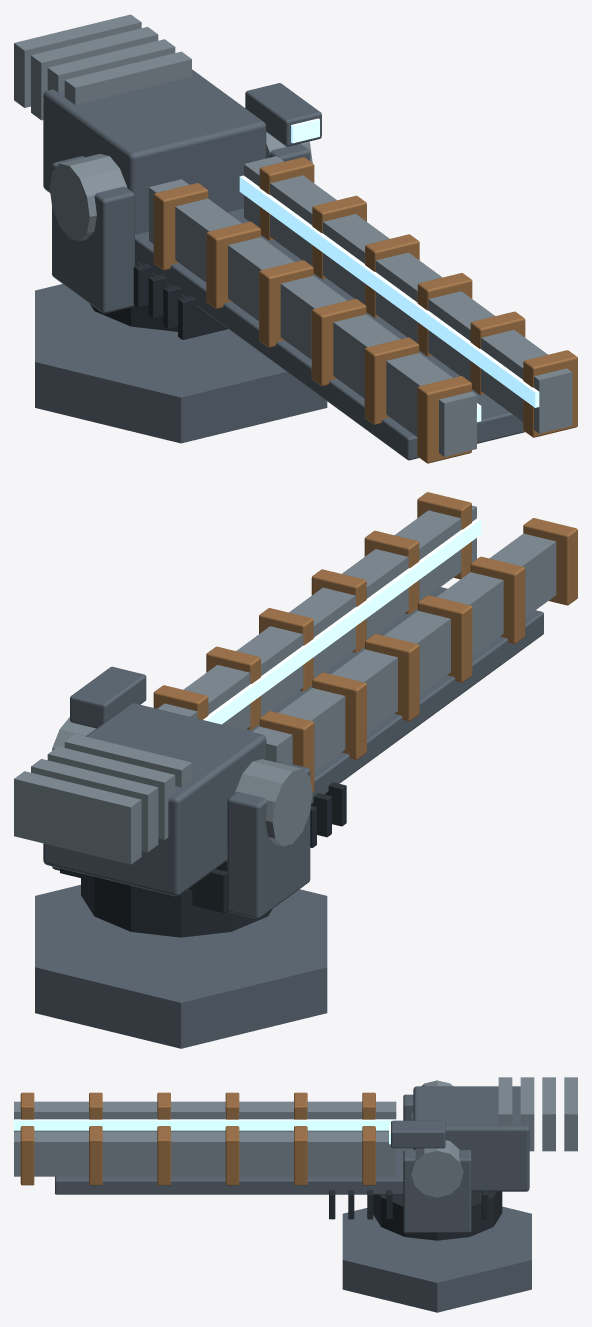
The model's file is railgun_t3_d0.glb.
3 renders of one model, top to bottom at view 1: azimuth 30°, elevation 25°; view 2: azimuth 150°, elevation 25°; view 3: azimuth 270°, elevation 25°, orthographic. The views are drawn at different scales.
Visible parts, largest first — view 1: RECOIL_ARMOR_GEOMETRY, BASE_ARMOR_GEOMETRY, YAW_ARMOR_GEOMETRY, RECOIL_SIGNAL_GEOMETRY; view 2: RECOIL_ARMOR_GEOMETRY, BASE_ARMOR_GEOMETRY, YAW_ARMOR_GEOMETRY, RECOIL_SIGNAL_GEOMETRY; view 3: RECOIL_ARMOR_GEOMETRY, BASE_ARMOR_GEOMETRY, YAW_ARMOR_GEOMETRY, RECOIL_SIGNAL_GEOMETRY.
Part boxes in pixels (bbox=[...]): RECOIL_ARMOR_GEOMETRY: bbox=[14, 14, 577, 463]; BASE_ARMOR_GEOMETRY: bbox=[35, 284, 327, 443]; YAW_ARMOR_GEOMETRY: bbox=[52, 144, 310, 331]; RECOIL_SIGNAL_GEOMETRY: bbox=[239, 118, 539, 421]; RECOIL_ARMOR_GEOMETRY: bbox=[14, 492, 577, 912]; BASE_ARMOR_GEOMETRY: bbox=[35, 884, 327, 1048]; YAW_ARMOR_GEOMETRY: bbox=[52, 761, 310, 937]; RECOIL_SIGNAL_GEOMETRY: bbox=[203, 518, 481, 724]; RECOIL_ARMOR_GEOMETRY: bbox=[14, 1077, 577, 1219]; BASE_ARMOR_GEOMETRY: bbox=[342, 1206, 531, 1312]; YAW_ARMOR_GEOMETRY: bbox=[373, 1094, 502, 1240]; RECOIL_SIGNAL_GEOMETRY: bbox=[14, 1119, 396, 1144].
Bounding box in the file's own units: 1.6 × 1.38 × 4.13.
